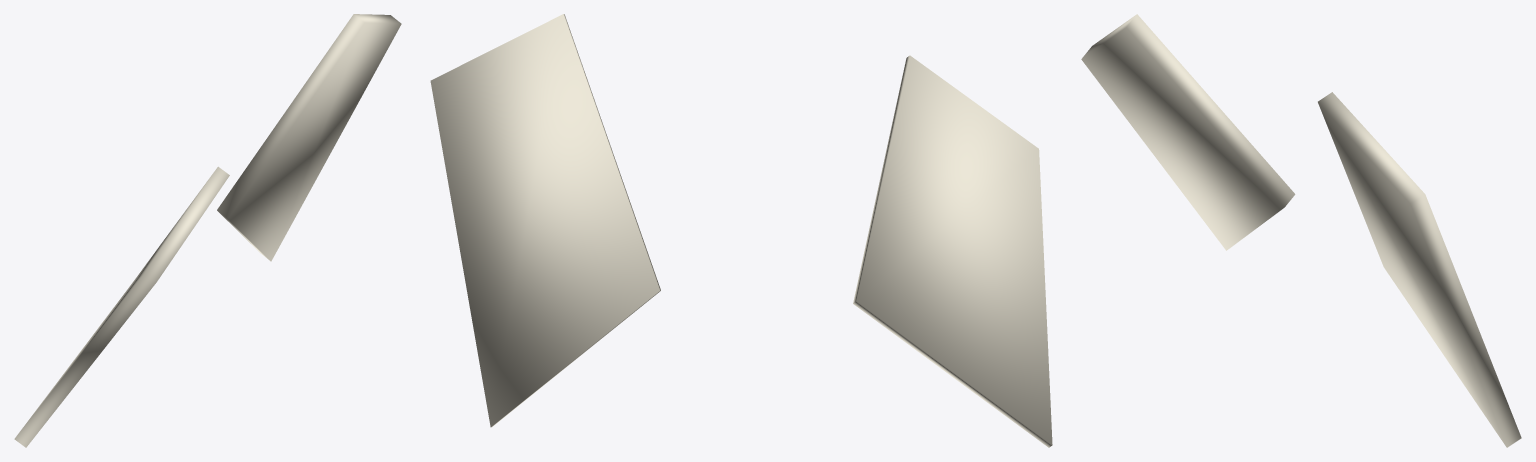
3 views of the same model, side by side, from view 1: azimuth 30°, elevation 25°; view 2: azimuth 150°, elevation 25°; view 3: azimuth 270°, elevation 25° (orthographic). The views are drawn at different scales.
Parts seen in each view (by area): view 1: ZA_cd8e5f2be1e1b409; view 2: ZA_cd8e5f2be1e1b409; view 3: ZA_cd8e5f2be1e1b409.
Part boxes in pixels (x1,y1,x2,y2): ZA_cd8e5f2be1e1b409: [14, 14, 401, 447]; ZA_cd8e5f2be1e1b409: [430, 14, 1052, 447]; ZA_cd8e5f2be1e1b409: [1081, 14, 1521, 447].
Size of the model in its own units: 0.0179 by 0.0116 by 0.0122.
